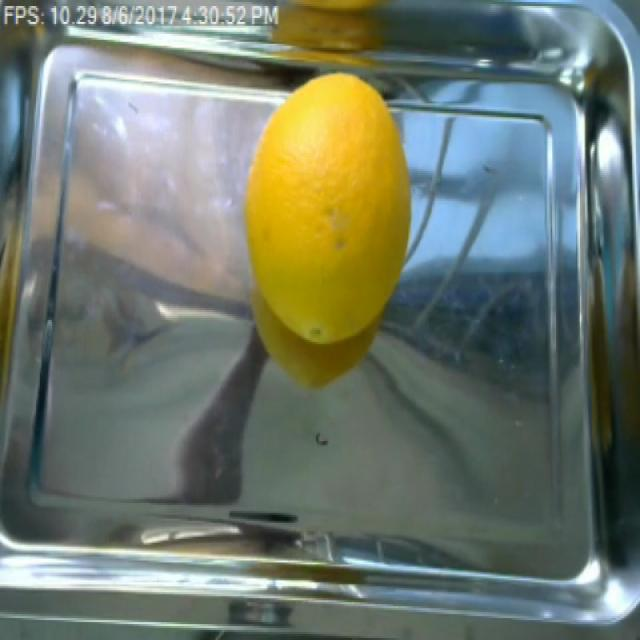Fruit: (229, 59, 416, 393)
